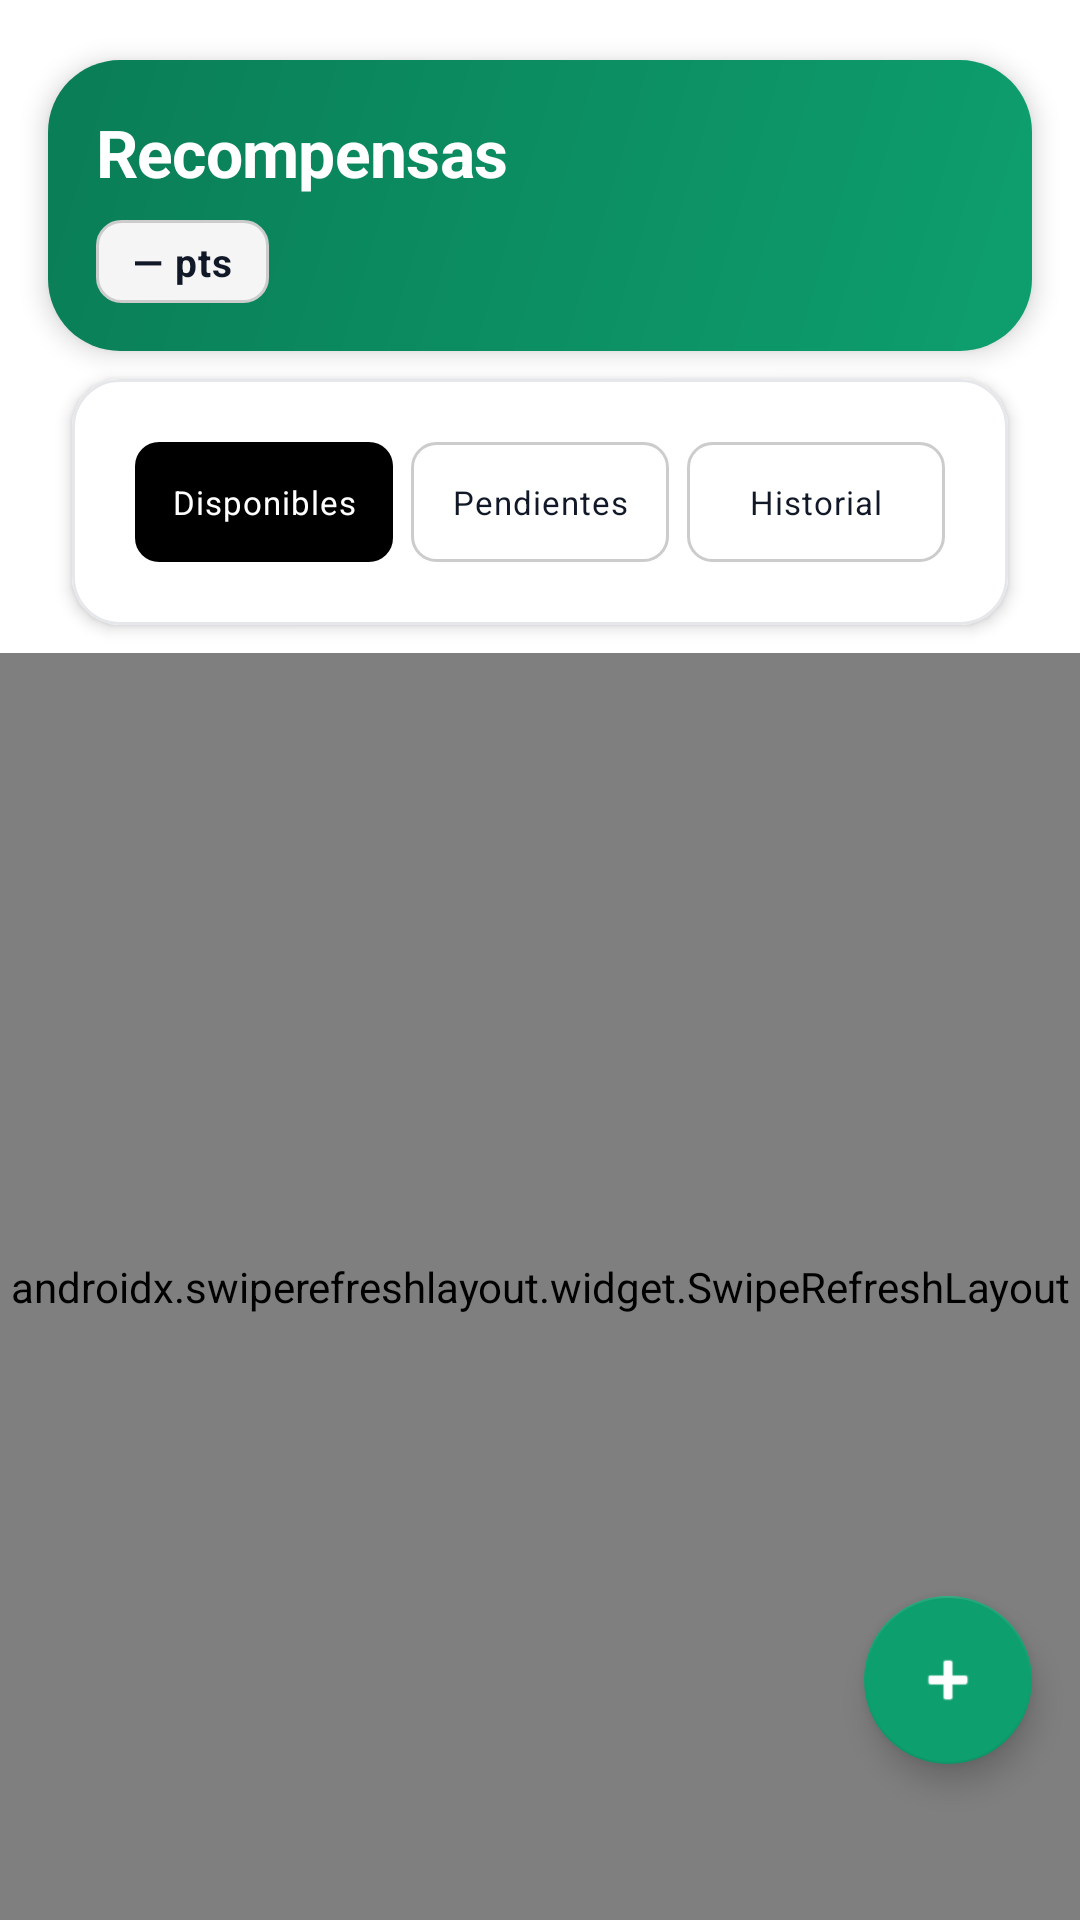

Icons on this 1080×1920 Android screen, each with its box as region(x1, y1, x2, y2):
Crear recompensa personalizada: region(864, 1596, 1032, 1764)
